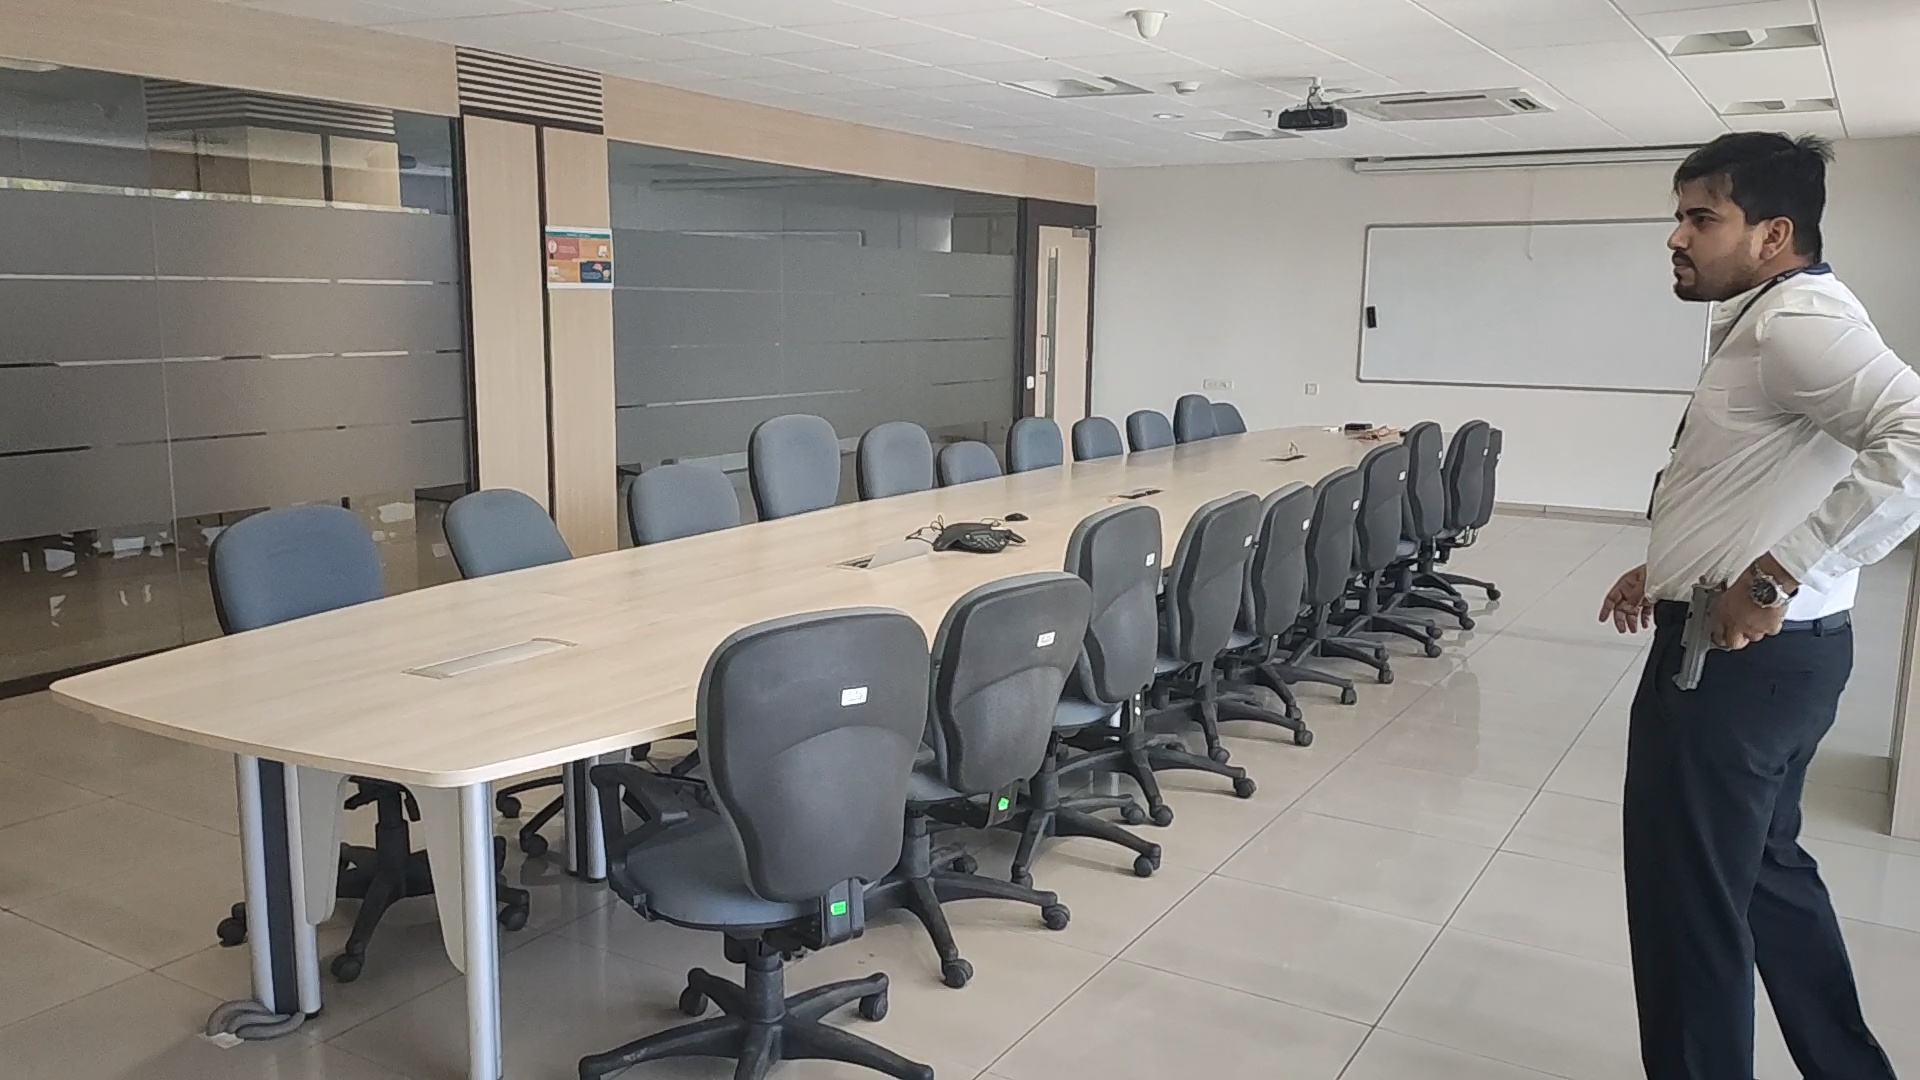gun: (1671, 574, 1727, 694)
